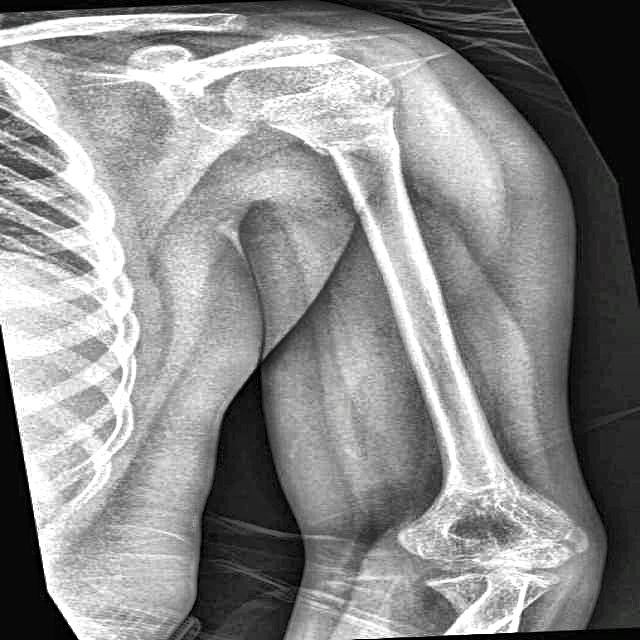Oblique Displaced: (297, 129, 417, 219)
